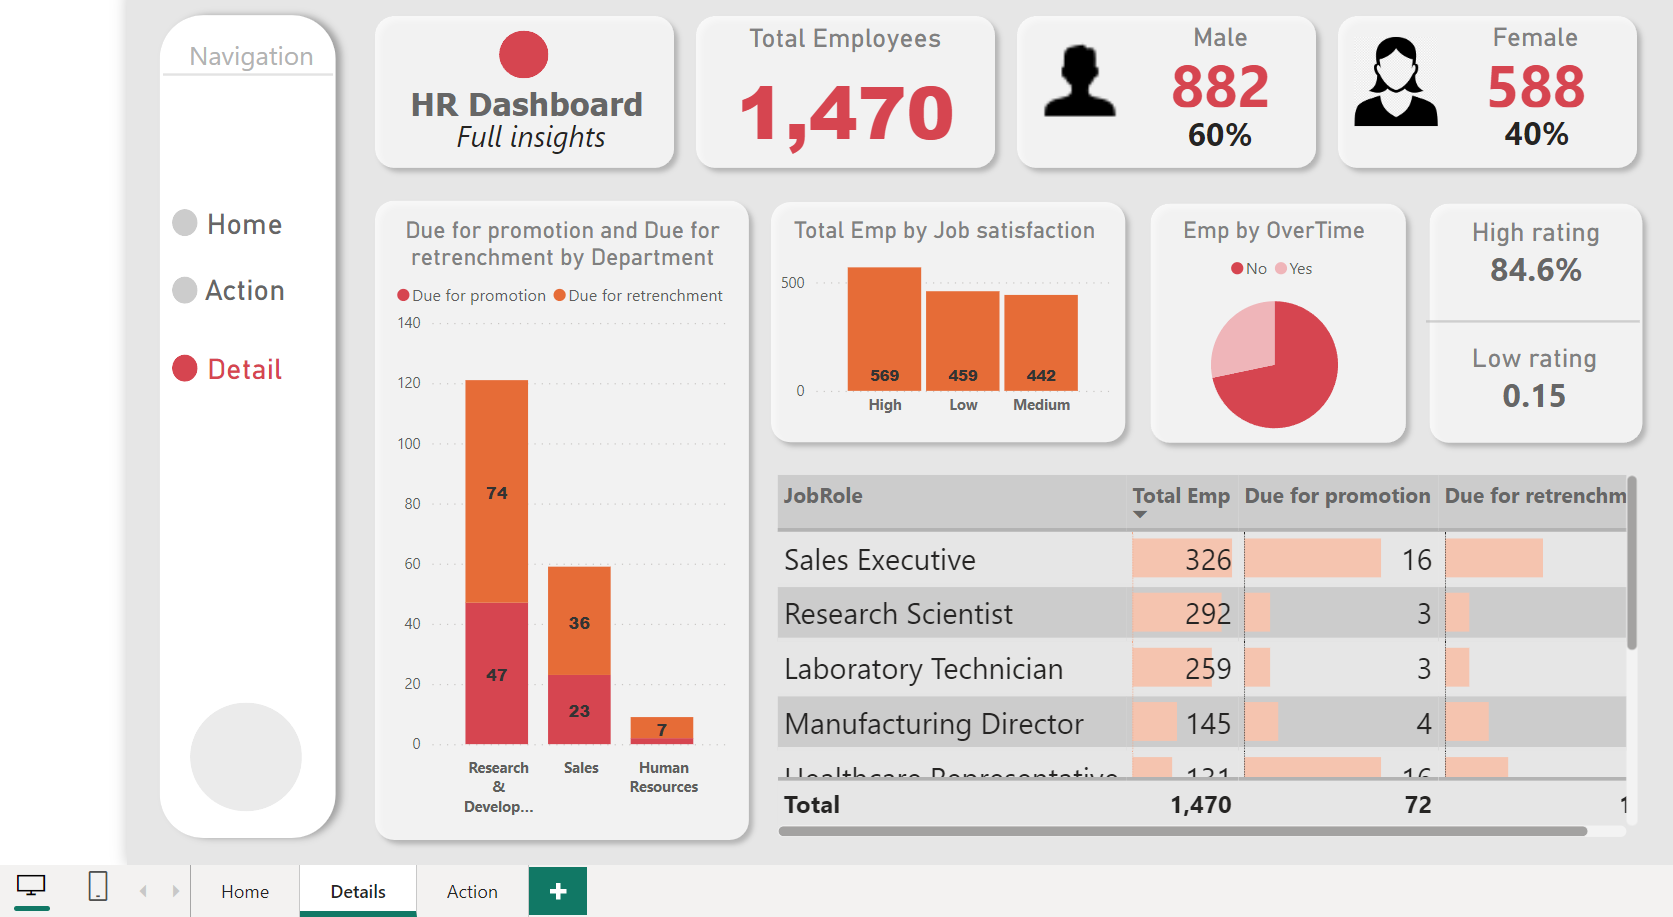

The dashboard page shown, as its layout file describes it:
{"tool":"powerbi","page":{"name":"Details","canvas":[1280,720],"ordinal":1},"visuals":[{"type":"shape","box":[16.5,9.6,166.5,699.2],"z":0},{"type":"shape","box":[195.4,12.4,264.3,143.1],"z":1000},{"type":"shape","box":[459.7,12.4,264.3,143.1],"z":2000},{"type":"shape","box":[724,12.4,264.3,143.1],"z":3000},{"type":"shape","box":[988.2,12.4,264.3,143.1],"z":4000},{"type":"shape","box":[195.2,164.4,325.9,544.6],"z":5000},{"type":"shape","box":[521.1,165.9,309.7,215.8],"z":6000},{"type":"shape","box":[833.6,166.7,228.3,215],"z":7000},{"type":"shape","box":[1063.1,166.7,193.3,215],"z":8000},{"type":"textbox","box":[209.7,71.2,238.7,51.4],"z":9000},{"type":"textbox","box":[36.9,33,130.5,51.4],"z":10000},{"type":"textbox","box":[209.7,97.6,251.9,55.4],"z":11000},{"type":"shape","box":[305.9,33,40.9,39.6],"z":12000},{"type":"card","title":"Total Employees","fields":{"Values":["All Measures.Total Emp"]},"box":[468,27.5,246.4,112.9],"z":13000},{"type":"card","title":"Male","fields":{"Values":["All Measures.Male"]},"box":[814.8,26.2,170.7,75.7],"z":14000},{"type":"card","fields":{"Values":["All Measures.Male %"]},"box":[834.1,90.8,132.1,55.1],"z":15000},{"type":"card","title":"Female","fields":{"Values":["All Measures.Female"]},"box":[1068.7,26.2,183.1,75.7],"z":16000},{"type":"card","fields":{"Values":["All Measures.Female %"]},"box":[1083.9,90.8,152.8,53.7],"z":17000},{"type":"image","box":[736.3,26.2,95,90.8],"z":18000},{"type":"image","box":[1004.7,33,79.8,84],"z":19000},{"type":"columnChart","fields":{"Category":["HR Analytics Data.Department"],"Y":["All Measures.Due for promotion","All Measures.Due for retirment"]},"box":[216.3,185.9,284.8,501.1],"z":20000},{"type":"tableEx","fields":{"Values":["HR Analytics Data.JobRole","All Measures.Total Emp","All Measures.Due for promotion","All Measures.Due for retirment"]},"box":[529.5,393.8,718.8,308.1],"z":21000},{"type":"columnChart","fields":{"Category":["HR Analytics Data.Job satisfaction"],"Y":["All Measures.Total Emp"]},"box":[532.8,186.4,281.8,173.2],"z":22000},{"type":"pieChart","title":"Emp by OverTime","fields":{"Category":["HR Analytics Data.OverTime"],"Y":["All Measures.Total Emp"]},"box":[820.3,186,248.9,192.1],"z":23000},{"type":"card","title":"High rating","fields":{"Values":["All Measures.% High emp rating"]},"box":[1066.7,186,186,61.6],"z":24000},{"type":"card","title":"Low rating","fields":{"Values":["All Measures.% Low emp rating"]},"box":[1065.5,289.9,186,61.6],"z":25000},{"type":"shape","box":[1070.1,265.7,176.1,14.7],"z":26000},{"type":"shape","box":[36.9,300.7,21.1,22.4],"z":27000},{"type":"actionButton","title":"Detail","box":[27.7,298,139.8,39.6],"z":28000},{"type":"shape","box":[36.9,236,21.1,22.4],"z":29000},{"type":"actionButton","title":"Action","box":[27.7,232.1,139.8,58],"z":30000},{"type":"shape","box":[36.9,180.7,21.1,22.4],"z":31000},{"type":"actionButton","title":"Home","box":[27.7,178,139.8,54.1],"z":32000},{"type":"shape","box":[51.4,586.8,92.3,89.7],"z":33000},{"type":"shape","box":[30.2,61.6,140.1,15.7],"z":34000}]}

Visuals, with their boxes on the page's 1280x720 design canvas (x1, y1, x2, y2). These are canvas units, not pixel positions in the 1673x917 screenshot, which may show the page scaled, cropped or inside an application window:
shape: (16,10,183,709)
shape: (195,12,460,156)
shape: (460,12,724,156)
shape: (724,12,988,156)
shape: (988,12,1252,156)
shape: (195,164,521,709)
shape: (521,166,831,382)
shape: (834,167,1062,382)
shape: (1063,167,1256,382)
textbox: (210,71,448,123)
textbox: (37,33,167,84)
textbox: (210,98,462,153)
shape: (306,33,347,73)
"Total Employees" card: (468,28,714,140)
"Male" card: (815,26,986,102)
card - All Measures.Male %: (834,91,966,146)
"Female" card: (1069,26,1252,102)
card - All Measures.Female %: (1084,91,1237,144)
image: (736,26,831,117)
image: (1005,33,1084,117)
columnChart - HR Analytics Data.Department x All Measures.Due for promotion: (216,186,501,687)
tableEx - HR Analytics Data.JobRole x All Measures.Total Emp: (530,394,1248,702)
columnChart - HR Analytics Data.Job satisfaction x All Measures.Total Emp: (533,186,815,360)
"Emp by OverTime" pieChart: (820,186,1069,378)
"High rating" card: (1067,186,1253,248)
"Low rating" card: (1066,290,1252,352)
shape: (1070,266,1246,280)
shape: (37,301,58,323)
"Detail" actionButton: (28,298,168,338)
shape: (37,236,58,258)
"Action" actionButton: (28,232,168,290)
shape: (37,181,58,203)
"Home" actionButton: (28,178,168,232)
shape: (51,587,144,676)
shape: (30,62,170,77)
